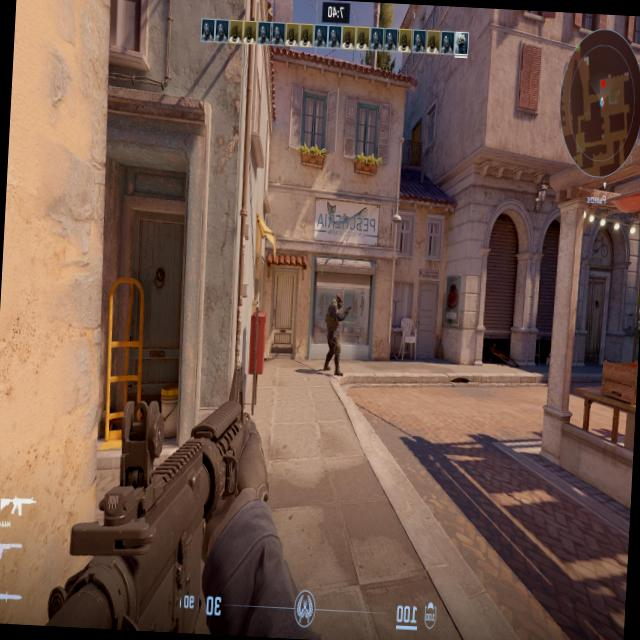CT: (329, 293, 342, 374)
CT_heat: (336, 298, 341, 307)
